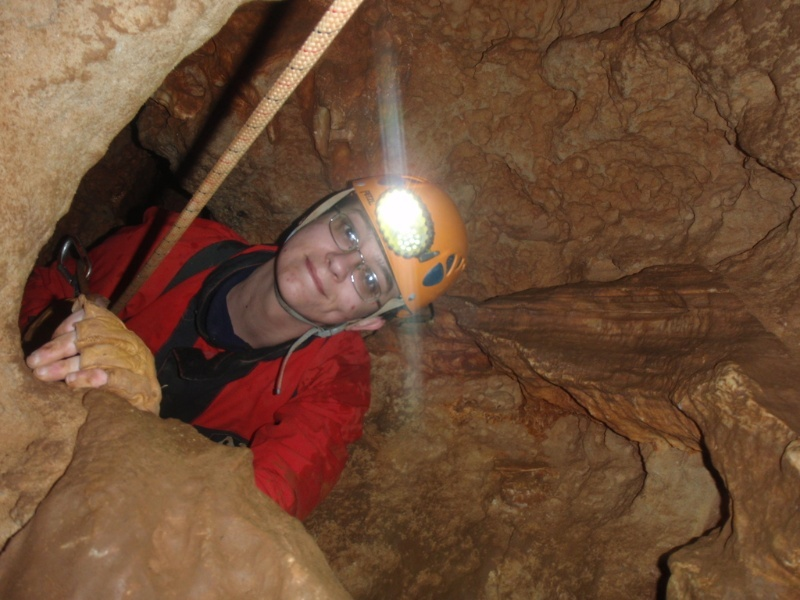Baret: (354, 161, 478, 295)
